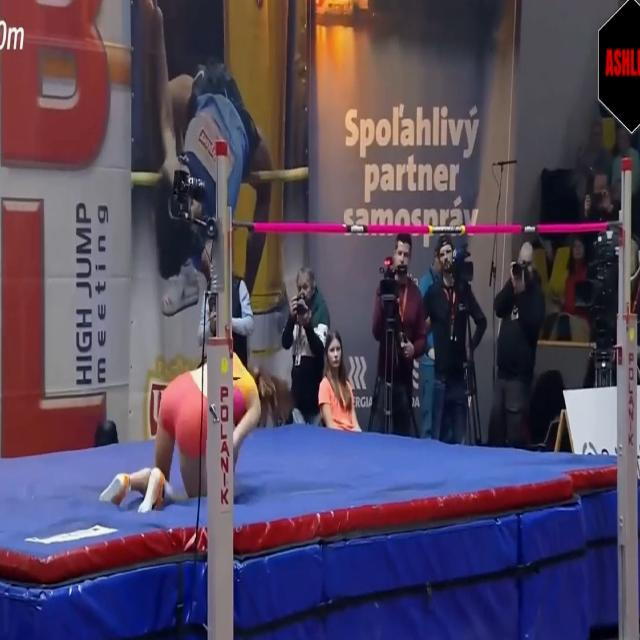land: (101, 353, 276, 513)
